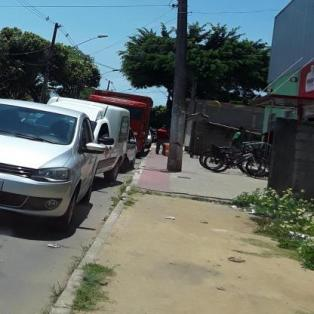Poste: (166, 0, 193, 168)
